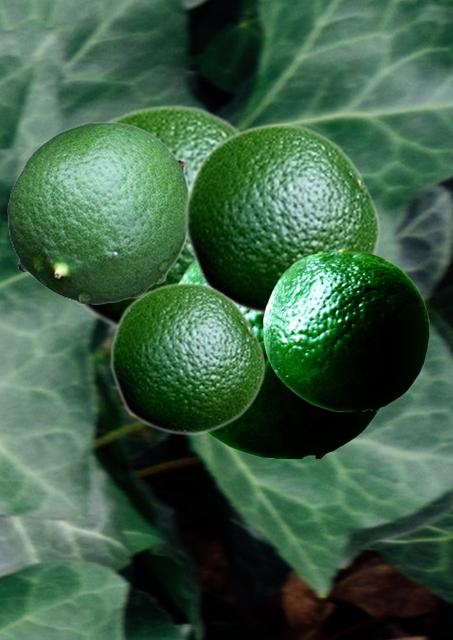calamansi: (178, 261, 382, 457), (71, 103, 242, 330), (183, 122, 380, 317), (7, 121, 189, 303), (263, 248, 428, 410), (109, 281, 265, 435)
